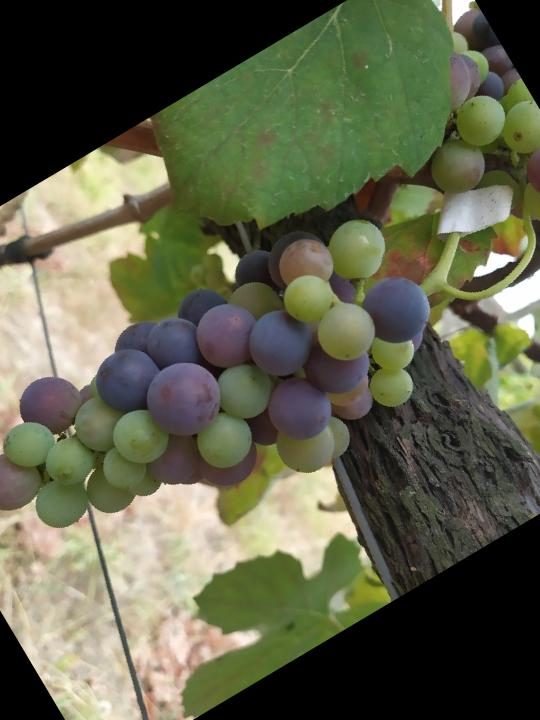grape: (0, 181, 480, 630)
